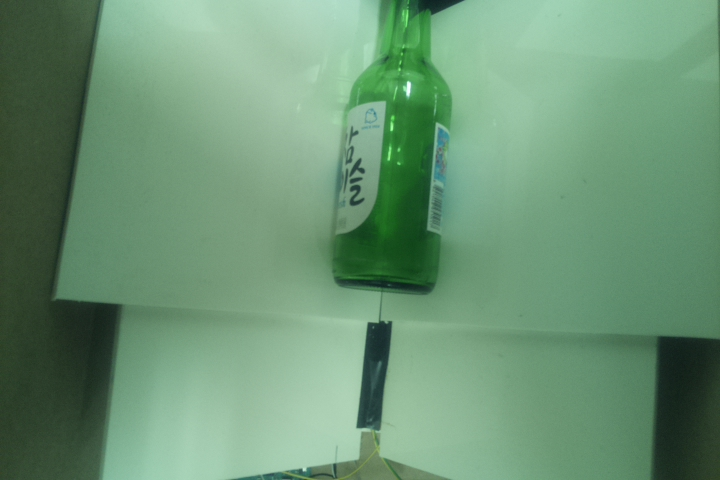soju: (331, 1, 452, 299)
